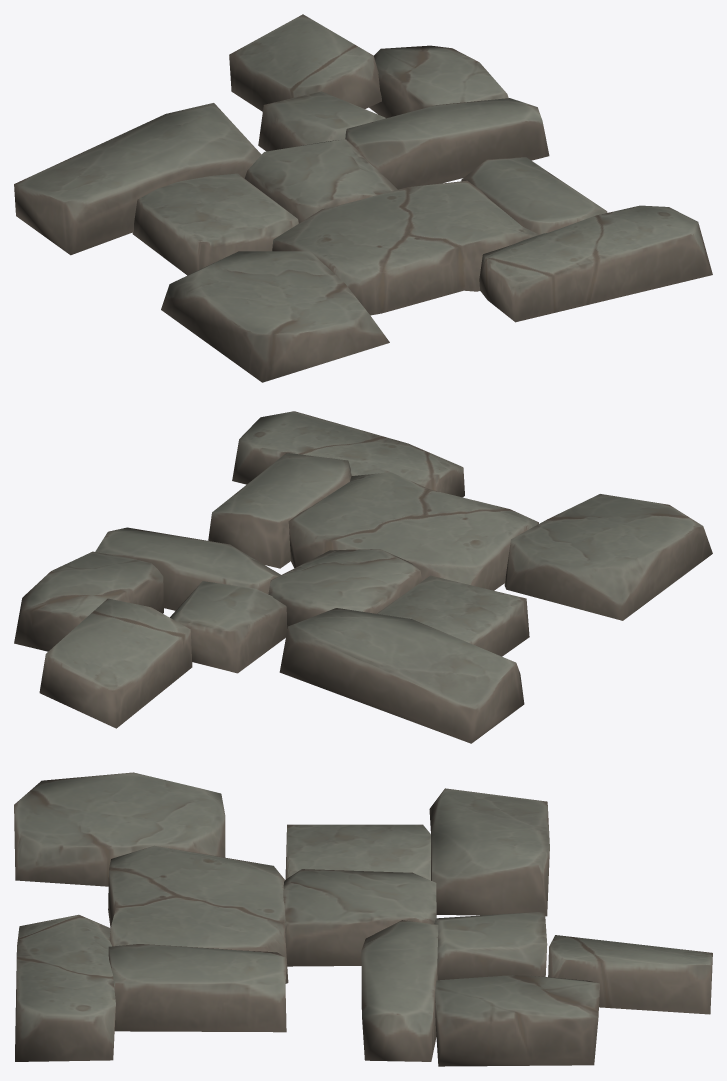
The model's file is SM_FW01_Floor_Tile_Group_09.fbx.
3 views of the same model, one above another, from view 1: azimuth 30°, elevation 25°; view 2: azimuth 150°, elevation 25°; view 3: azimuth 270°, elevation 25° (orthographic). The views are drawn at different scales.
Parts seen in each view (by area): view 1: SM_FW01_Floor_Tile_Group_09; view 2: SM_FW01_Floor_Tile_Group_09; view 3: SM_FW01_Floor_Tile_Group_09.
Part boxes in pixels (box(x1,y1,x2,y2)): SM_FW01_Floor_Tile_Group_09: box(14, 14, 712, 382); SM_FW01_Floor_Tile_Group_09: box(14, 411, 712, 743); SM_FW01_Floor_Tile_Group_09: box(14, 772, 712, 1066).
Bounding box in the file's own units: 1.42 × 0.2096 × 1.74.
